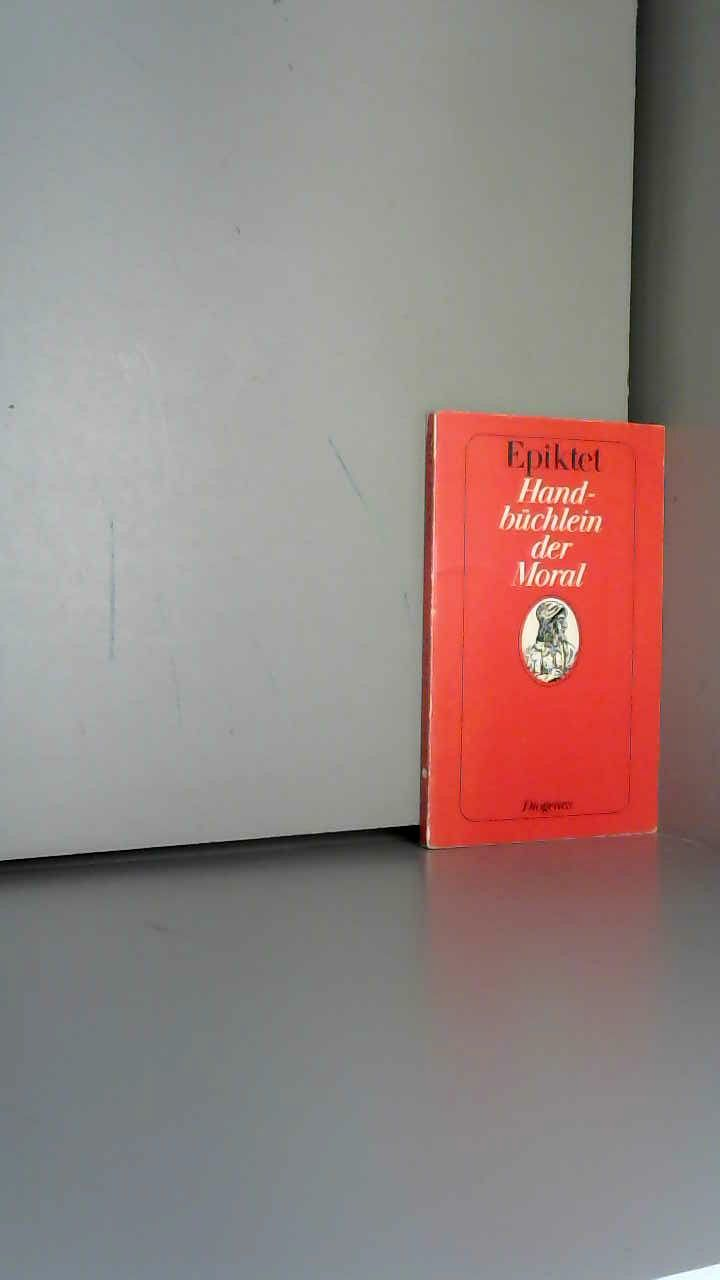book: (400, 380, 719, 925)
